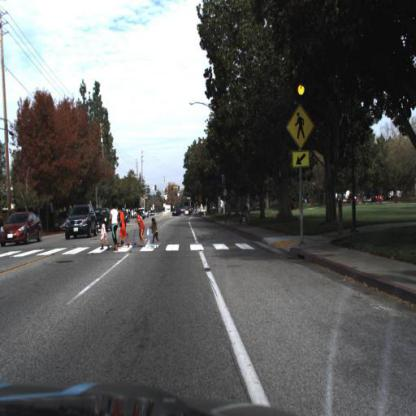car: (1, 211, 45, 250), (1, 210, 43, 250), (65, 205, 99, 241)
pedestrian: (117, 205, 130, 247), (145, 217, 160, 251), (134, 210, 147, 248), (109, 207, 121, 248), (110, 203, 119, 254), (98, 221, 112, 253), (136, 207, 146, 251), (100, 219, 112, 251)
trafficLight-Yellow: (295, 76, 309, 103)
